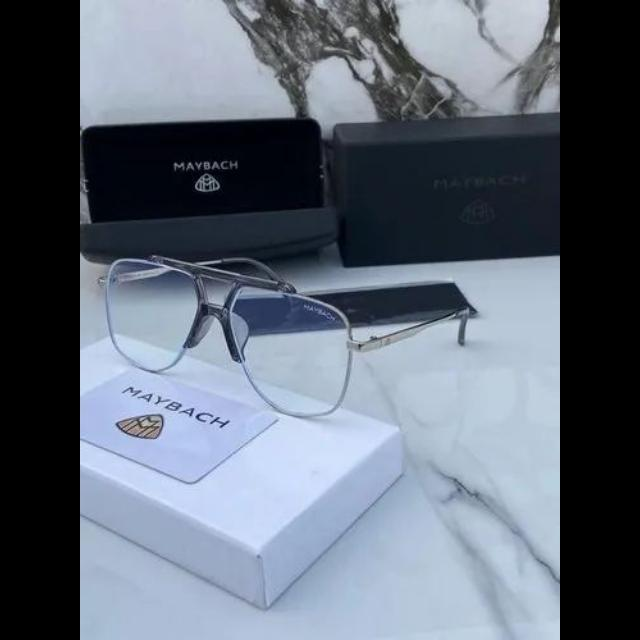mask: (90, 243, 530, 412)
